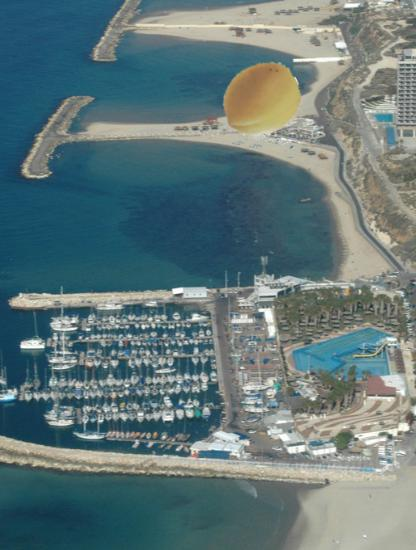Peach: (221, 59, 303, 141)
